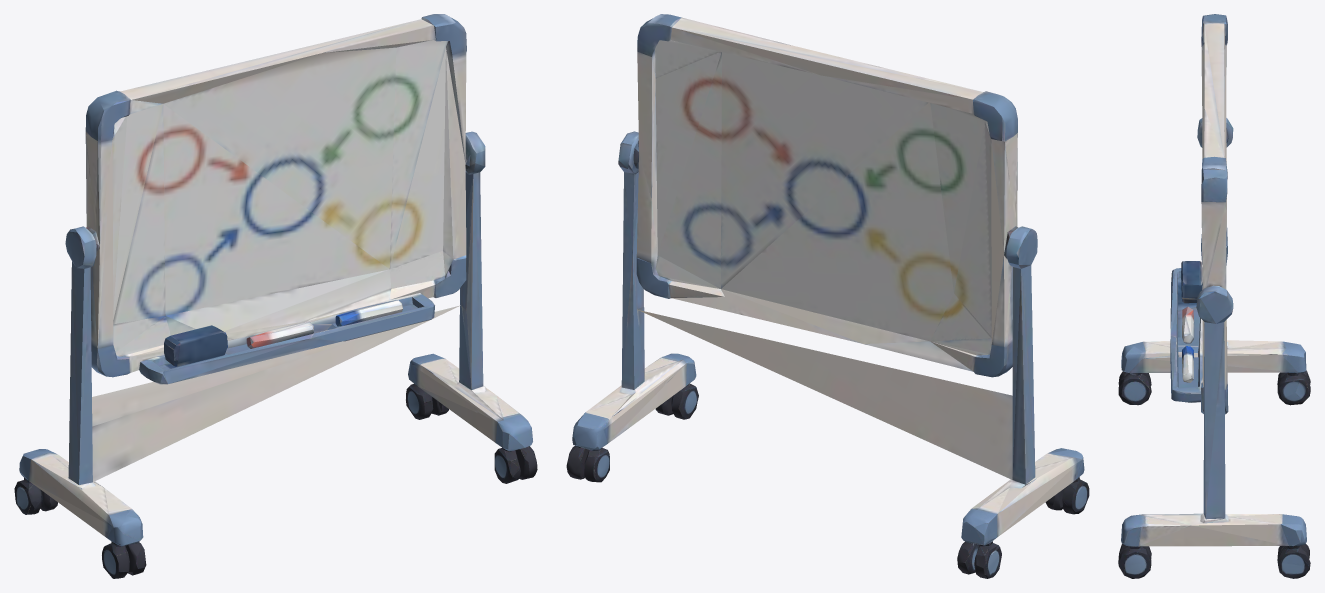
File: office-whiteboard.glb
3 renders of one model, left to right at view 1: azimuth 30°, elevation 25°; view 2: azimuth 150°, elevation 25°; view 3: azimuth 270°, elevation 25°, orthographic. The views are drawn at different scales.
Visible parts, largest first — view 1: office-whiteboard-fit; view 2: office-whiteboard-fit; view 3: office-whiteboard-fit.
Boxes of the visible parts, x1,y1,x2,y2 form: office-whiteboard-fit: [14, 14, 537, 578]; office-whiteboard-fit: [566, 14, 1089, 578]; office-whiteboard-fit: [1118, 14, 1310, 578].
Size of the model in its own units: 2.41 by 2.4 by 1.05.
Materials: 1 (1 with a texture image).
